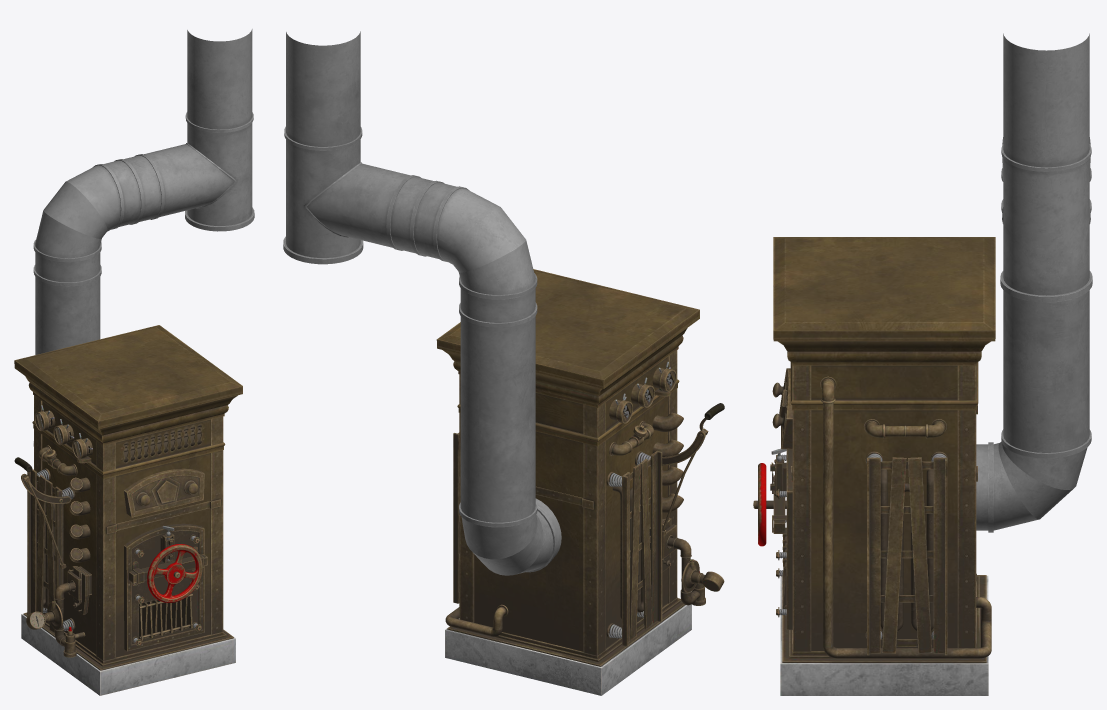
The model's file is obj_vintage_boiler_8a1a85.glb.
The picture shows the model from 3 angles, left to right: view 1: azimuth 30°, elevation 25°; view 2: azimuth 150°, elevation 25°; view 3: azimuth 270°, elevation 25°; orthographic projection. The views are drawn at different scales.
Parts seen in each view (by area): view 1: obj_vintage_boiler_8a1a85; view 2: obj_vintage_boiler_8a1a85; view 3: obj_vintage_boiler_8a1a85.
Part boxes in pixels (bbox=[...]): obj_vintage_boiler_8a1a85: bbox=[14, 29, 254, 695]; obj_vintage_boiler_8a1a85: bbox=[283, 31, 724, 695]; obj_vintage_boiler_8a1a85: bbox=[753, 33, 1092, 695].
Size of the model in its own units: 0.4663 by 0.8 by 0.3429.
3 materials, 3 textured.
